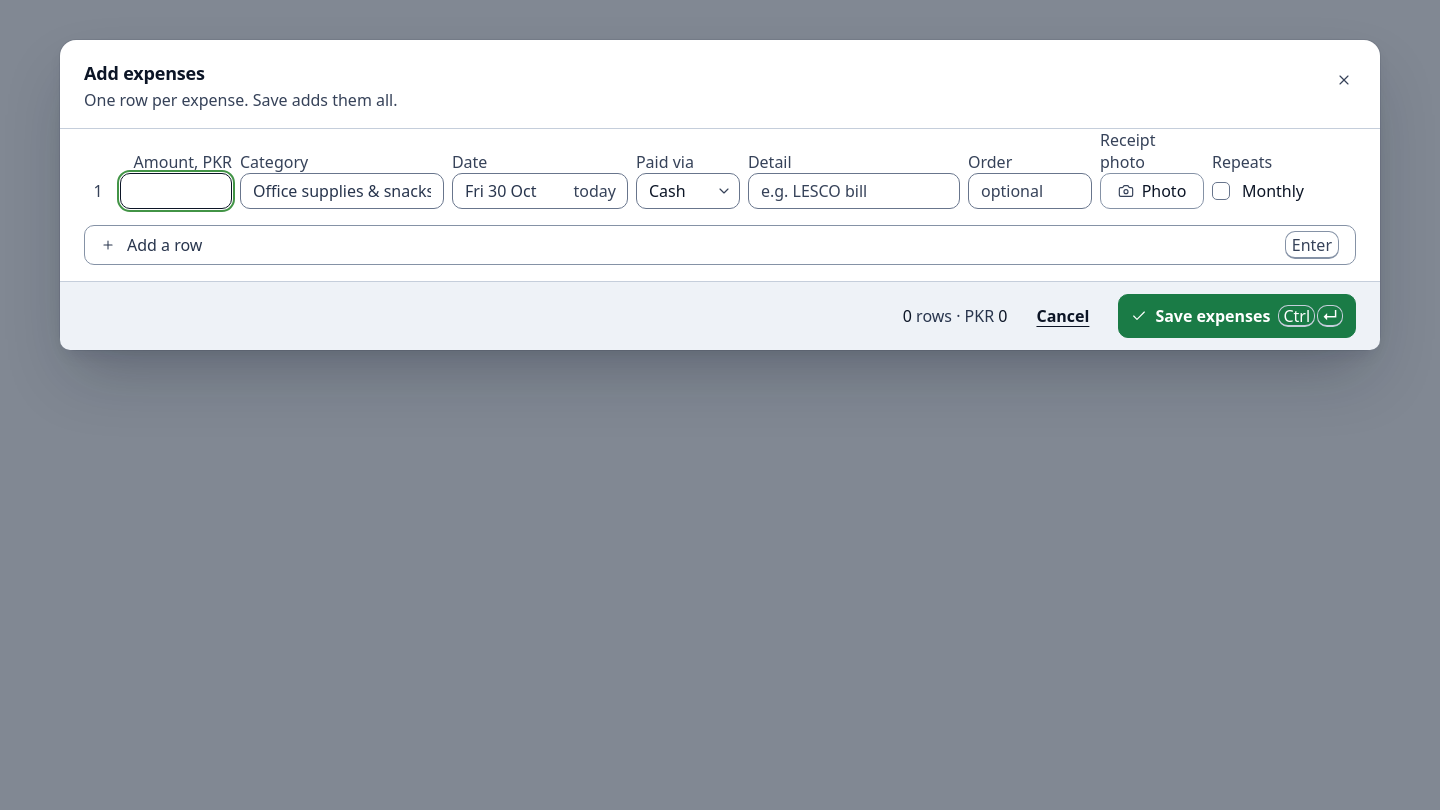
it: burst entry sheet (M11) › the saved values are the ones on screen, however fast the keys come › clicking Save with category text that matches nothing saves nothing and says so on the row
Type keys "500{Tab}zzz"
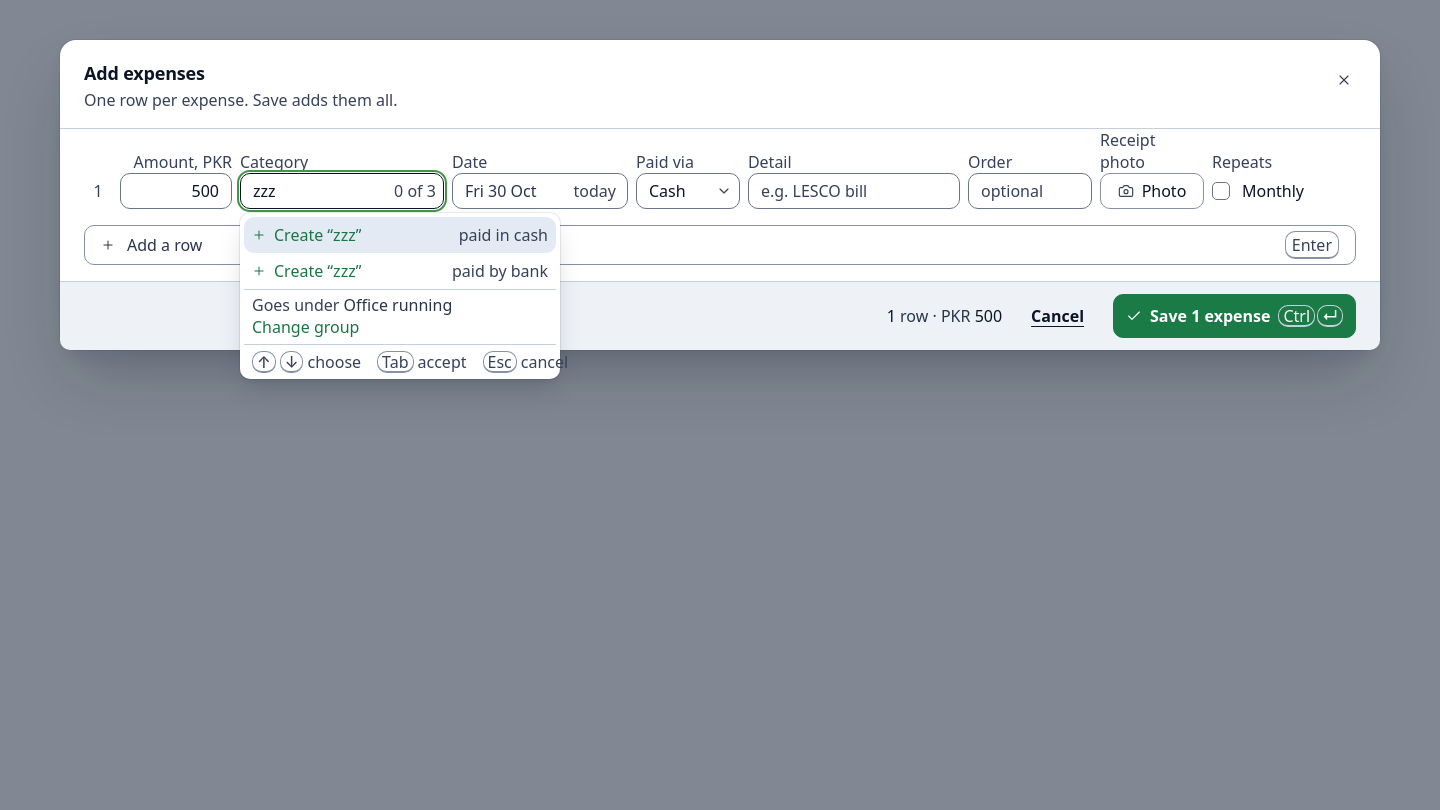
Click the button "Save 1 expense Ctrl ↵" at {"x": 1234, "y": 316}, box x1=1113 y1=294 x2=1356 y2=338
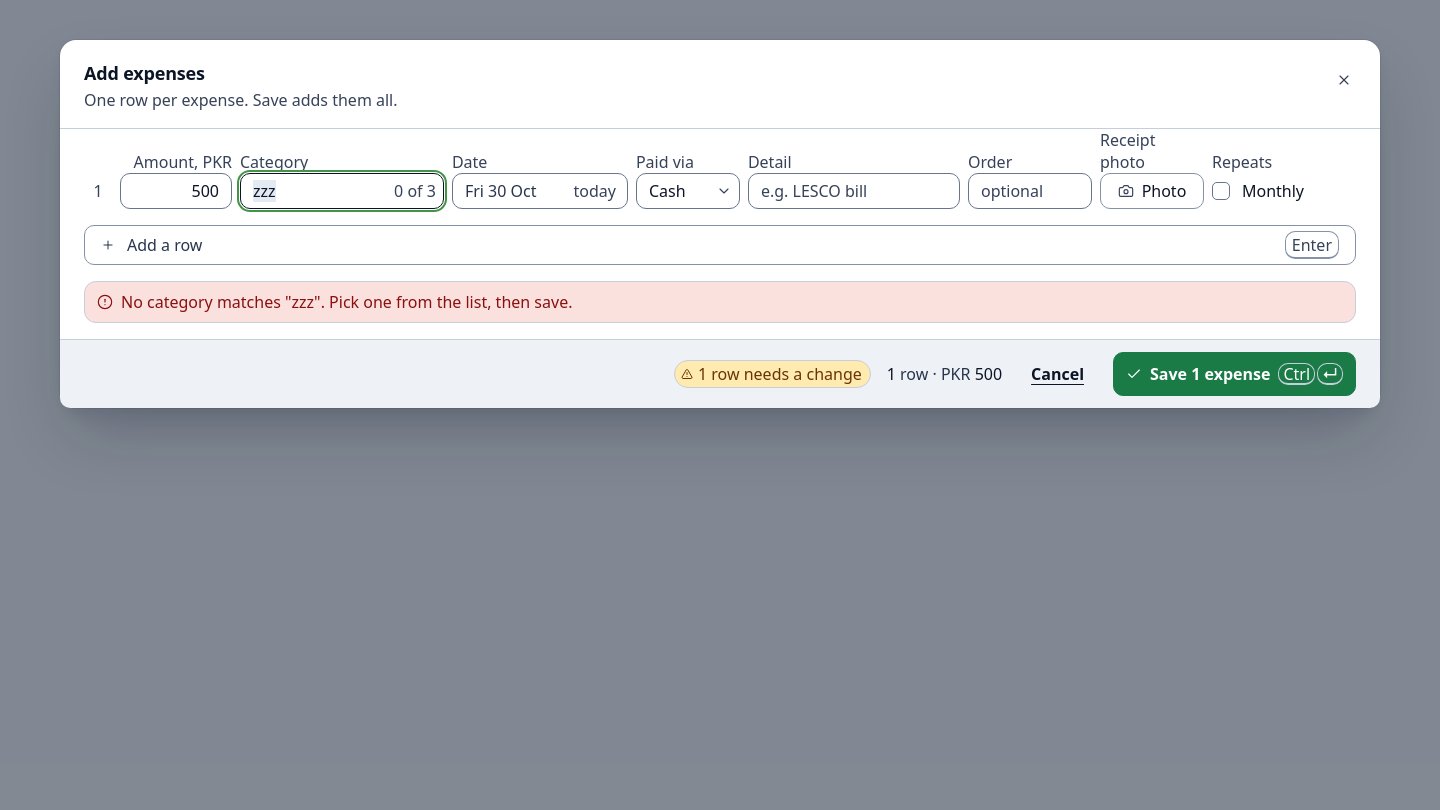
Result: the dropdown named "Category, row 1" holds "zzz" at x1=240 y1=173 x2=444 y2=209
Result: the text "No category matches \"zzz\". Pick one from the list, then save." is shown at x1=84 y1=281 x2=1356 y2=323
